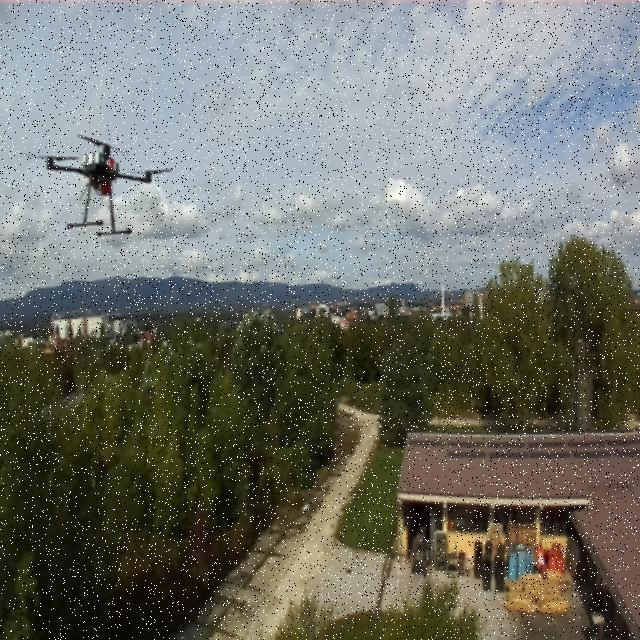UAV: (23, 129, 175, 234)
